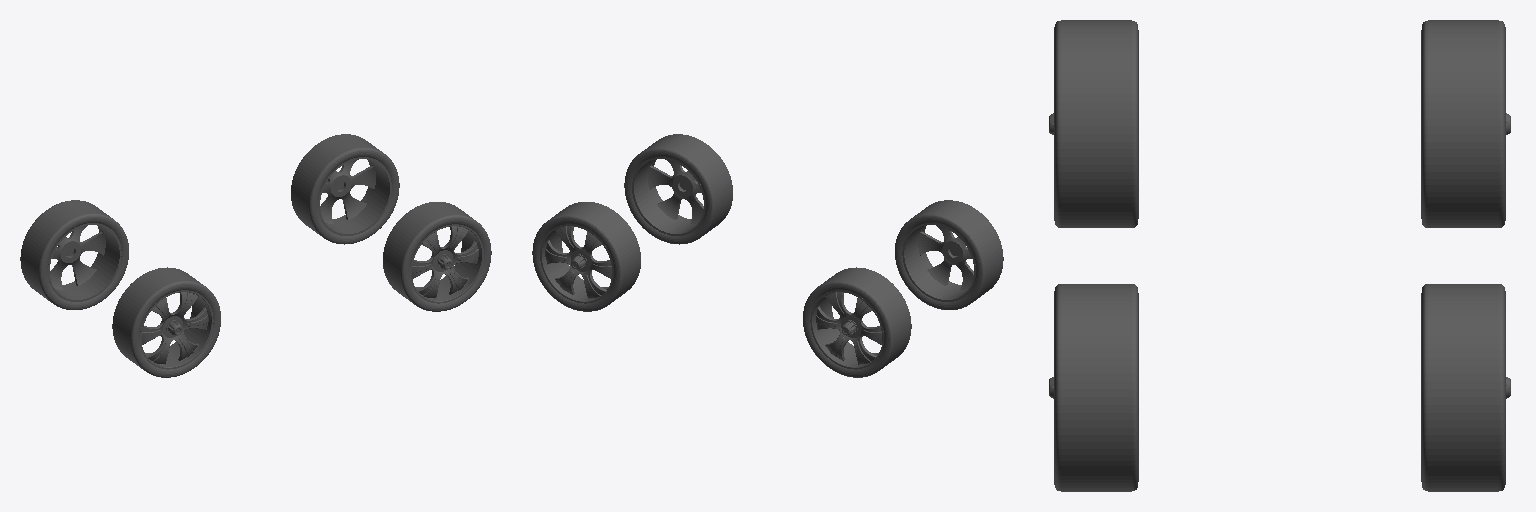
robot.urdf — scorpio_base_link:
<?xml version="1.0"?>
<!-- 
	spark base    
	© 2016 NXROBO INTERNATIONAL (HONG KONG) LIMITED.
    http://www.nxrobo.com
-->

<robot name="scorpio_base_link">

<link name="base_footprint"/>		
	<link name="base_link"/>	
		
	<joint name="base_footprint_joint" type="fixed">
		<origin xyz="0 0 0" rpy="0 0 0" />
		<parent link="base_footprint"/>
		<child link="base_link" />
	</joint>
		
	<link name="IMU_link"/>
  	<joint name="IMU_joint" type="fixed">
      		<origin xyz="0.16 0.04 0.175" rpy="0 0 -3.141592654" />
      		<parent link="base_link"/>
      		<child link="IMU_link"/>
  	</joint>
		
	<link name="room_base_link">
		<inertial>
		  <origin
		    xyz="-0.0078695 -0.020998 -0.001386"
		    rpy="0 0 0" />
		  <mass
		    value="0.54755" />
		  <inertia
		    ixx="0.00346146576565066"
		    ixy="-6.26423343889596E-06"
		    ixz="8.2000761035661E-05"
		    iyy="-1.84932053914363E-05"
		    iyz="-0.00410723070180017"
		    izz="1.84932053914367E-05" />
		</inertial>
		<visual>
		  <origin
		    xyz="0 0 0"
		    rpy="0 0 0" />
		  <geometry>
		    <mesh
		      filename="package://scorpio_description/meshes/scorpio/base/scorpio.stl" scale="0.001 0.001 0.001"/>
		  </geometry>	  
		</visual>
		<collision>
		  <origin
		    xyz="0 0 0"
		    rpy="0 0 0" />
		  <geometry>
		    <mesh
		      filename="package://scorpio_description/meshes/scorpio/base/scorpio.stl" scale="0.001 0.001 0.001"/>
		  </geometry>

		</collision>	
	</link>	

 	<!--wheel link and joint-->
	<link name="left_back_wheel_link">
		<inertial>
		  <origin
		    xyz="0 0 0"
		    rpy="0 0 0" />
		  <mass
		    value="0.54755" />
		  <inertia

		    ixx="0.00346146576565066"
		    ixy="-6.26423343889596E-06"
		    ixz="8.2000761035661E-05"
		    iyy="-1.84932053914363E-05"
		    iyz="-0.00410723070180017"
		    izz="1.84932053914367E-05" />
		</inertial>
		<visual>
		  <origin
		    xyz="0 0 0"
		    rpy="0 0 0" />
		  <geometry>
		    <mesh
		      filename="package://scorpio_description/meshes/scorpio/base/left_wheel.stl" scale="0.001 0.001 0.001"/>
		  </geometry>
		      <material name = "black">
			  <color rgba = "0.4 0.4 0.4 1"/>
		     </material>		  
		</visual>
		<collision>
		  <origin
		    xyz="0 0 0"
		    rpy="0 0 0" />
		  <geometry>
		    <mesh
		      filename="package://scorpio_description/meshes/scorpio/base/left_wheel.stl" scale="0.001 0.001 0.001"/>
		  </geometry>
		      <material name = "black">
			  <color rgba = "0.4 0.4 0.4 1"/>
		     </material>
		</collision>	
	</link>  
	
	<joint name="left_back_wheel_joint" type="continuous">
		<origin xyz="-0.1575 0.0928 0.0525" rpy="0 0 0" />
		<axis xyz="0 1 0"/>
		<parent link="base_link"/>
		<child link="left_back_wheel_link" />
	</joint> 	
	
	
	
	<link name="right_back_wheel_link">
		<inertial>
		  <origin
		    xyz="0 0 0"
		    rpy="0 0 0" />
		  <mass
		    value="0.54755" />
		  <inertia

		    ixx="0.00346146576565066"
		    ixy="-6.26423343889596E-06"
		    ixz="8.2000761035661E-05"
		    iyy="-1.84932053914363E-05"
		    iyz="-0.00410723070180017"
		    izz="1.84932053914367E-05" />
		</inertial>
		<visual>
		  <origin
		    xyz="0 0 0"
		    rpy="0 0 0" />
		  <geometry>
		    <mesh
		      filename="package://scorpio_description/meshes/scorpio/base/right_wheel.stl" scale="0.001 0.001 0.001"/>
		  </geometry>
		      <material name = "black">
			  <color rgba = "0.4 0.4 0.4 1"/>
		     </material>		  
		</visual>
		<collision>
		  <origin
		    xyz="0 0 0"
		    rpy="0 0 0" />
		  <geometry>
		    <mesh

		      filename="package://scorpio_description/meshes/scorpio/base/right_wheel.stl" scale="0.001 0.001 0.001"/>
		  </geometry>
		      <material name = "black">
			  <color rgba = "0.4 0.4 0.4 1"/>
		     </material>
		</collision>	
	</link>   
	
	<joint name="right_back_wheel_joint" type="continuous">
		<origin xyz="-0.1575 -0.0928 0.0525" rpy="0 0 0" />
		<axis xyz="0 1 0"/>
		<parent link="base_link"/>
		<child link="right_back_wheel_link" />
	</joint> 

 	<!--left_front_wheel_link and joint-->
	<link name="left_front_wheel_link">
		<inertial>
		  <origin
		    xyz="0 0 0"
		    rpy="0 0 0" />
		  <mass
		    value="0.54755" />
		  <inertia
		    ixx="0.00346146576565066"
		    ixy="-6.26423343889596E-06"
		    ixz="8.2000761035661E-05"
		    iyy="-1.84932053914363E-05"
		    iyz="-0.00410723070180017"
		    izz="1.84932053914367E-05" />
		</inertial>
		<visual>
		  <origin
		    xyz="0 0 0"
		    rpy="0 0 0" />
		  <geometry>
		    <mesh
		      filename="package://scorpio_description/meshes/scorpio/base/left_wheel.stl" scale="0.001 0.001 0.001"/>
		  </geometry>
		      <material name = "black">
			  <color rgba = "0.4 0.4 0.4 1"/>
		     </material>		  
		</visual>
		<collision>
		  <origin
		    xyz="0 0 0"
		    rpy="0 0 0" />
		  <geometry>
		    <mesh
		      filename="package://scorpio_description/meshes/scorpio/base/left_wheel.stl" scale="0.001 0.001 0.001"/>
		  </geometry>
		      <material name = "black">
			  <color rgba = "0.4 0.4 0.4 1"/>
		     </material>
		</collision>	
	</link>  
	
	<joint name="left_front_wheel_joint" type="continuous">
		<origin xyz="0.1575 0.0928 0.0525" rpy="0 0 0" />
		<axis xyz="0 1 0"/>
		<parent link="base_link"/>
		<child link="left_front_wheel_link" />
	</joint> 	
	
	
	
	<link name="right_front_wheel_link">
		<inertial>
		  <origin
		    xyz="0 0 0"
		    rpy="0 0 0" />
		  <mass
		    value="0.54755" />
		  <inertia
		    ixx="0.00346146576565066"
		    ixy="-6.26423343889596E-06"
		    ixz="8.2000761035661E-05"
		    iyy="-1.84932053914363E-05"
		    iyz="-0.00410723070180017"
		    izz="1.84932053914367E-05" />
		</inertial>
		<visual>
		  <origin
		    xyz="0 0 0"
		    rpy="0 0 0" />
		  <geometry>
		    <mesh
		      filename="package://scorpio_description/meshes/scorpio/base/right_wheel.stl" scale="0.001 0.001 0.001"/>
		  </geometry>
		      <material name = "black">
			  <color rgba = "0.4 0.4 0.4 1"/>
		     </material>		  
		</visual>
		<collision>
		  <origin
		    xyz="0 0 0"
		    rpy="0 0 0" />
		  <geometry>
		    <mesh
		      filename="package://scorpio_description/meshes/scorpio/base/right_wheel.stl" scale="0.001 0.001 0.001"/>
		  </geometry>
		      <material name = "black">
			  <color rgba = "0.4 0.4 0.4 1"/>
		     </material>
		</collision>	
	</link>   
	
	<joint name="right_front_wheel_joint" type="continuous">
		<origin xyz="0.1575 -0.0928 0.0525" rpy="0 0 0" />
		<axis xyz="0 1 0"/>
		<parent link="base_link"/>
		<child link="right_front_wheel_link" />
	</joint> 


	<joint name="room_base_joint" type="fixed">
		<origin xyz="0 0 0" rpy="0 0 0" />
		<parent link="base_link"/>
		<child link="room_base_link" />
	</joint>
	
</robot>



--- Render facts (derived) ---
The picture shows the robot from 3 angles, left to right: view 1: azimuth 30°, elevation 25°; view 2: azimuth 150°, elevation 25°; view 3: azimuth 270°, elevation 25°; orthographic projection.
Model scorpio_base_link with 8 links and 7 joints (4 continuous, 3 fixed), rooted at base_footprint, posed every joint at zero.
Links seen in each view (by area): view 1: left_back_wheel_link, right_front_wheel_link, left_front_wheel_link, right_back_wheel_link; view 2: left_front_wheel_link, right_back_wheel_link, left_back_wheel_link, right_front_wheel_link; view 3: left_back_wheel_link, right_back_wheel_link, left_front_wheel_link, right_front_wheel_link.
Link boxes in pixels (left/top/right/bottom): left_back_wheel_link: left=20, top=200, right=128, bottom=309; right_front_wheel_link: left=383, top=202, right=491, bottom=311; left_front_wheel_link: left=291, top=134, right=399, bottom=244; right_back_wheel_link: left=112, top=267, right=220, bottom=377; left_front_wheel_link: left=532, top=202, right=640, bottom=311; right_back_wheel_link: left=895, top=200, right=1003, bottom=309; left_back_wheel_link: left=803, top=267, right=911, bottom=377; right_front_wheel_link: left=624, top=134, right=732, bottom=244; left_back_wheel_link: left=1421, top=20, right=1510, bottom=227; right_back_wheel_link: left=1049, top=20, right=1138, bottom=227; left_front_wheel_link: left=1421, top=284, right=1510, bottom=491; right_front_wheel_link: left=1049, top=284, right=1138, bottom=491.
Bounding box of the posed robot: 0.4199 × 0.2331 × 0.105 m (x, y, z).
4 mesh visuals loaded from 3 distinct referenced files (2 binary STL); not drawn: 1 (reference not matched to a file when rendering).